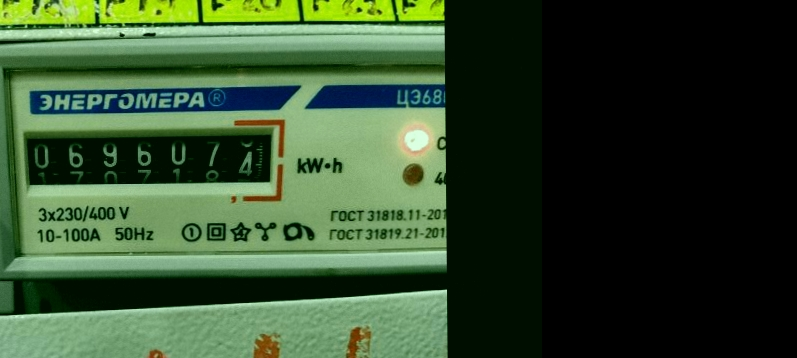0: (32, 140, 51, 169), (168, 138, 187, 165)
4: (236, 149, 254, 177)
6: (66, 140, 84, 168), (135, 138, 153, 166)
7: (203, 137, 222, 167)
9: (100, 140, 118, 168)
screen: (10, 115, 290, 204)
